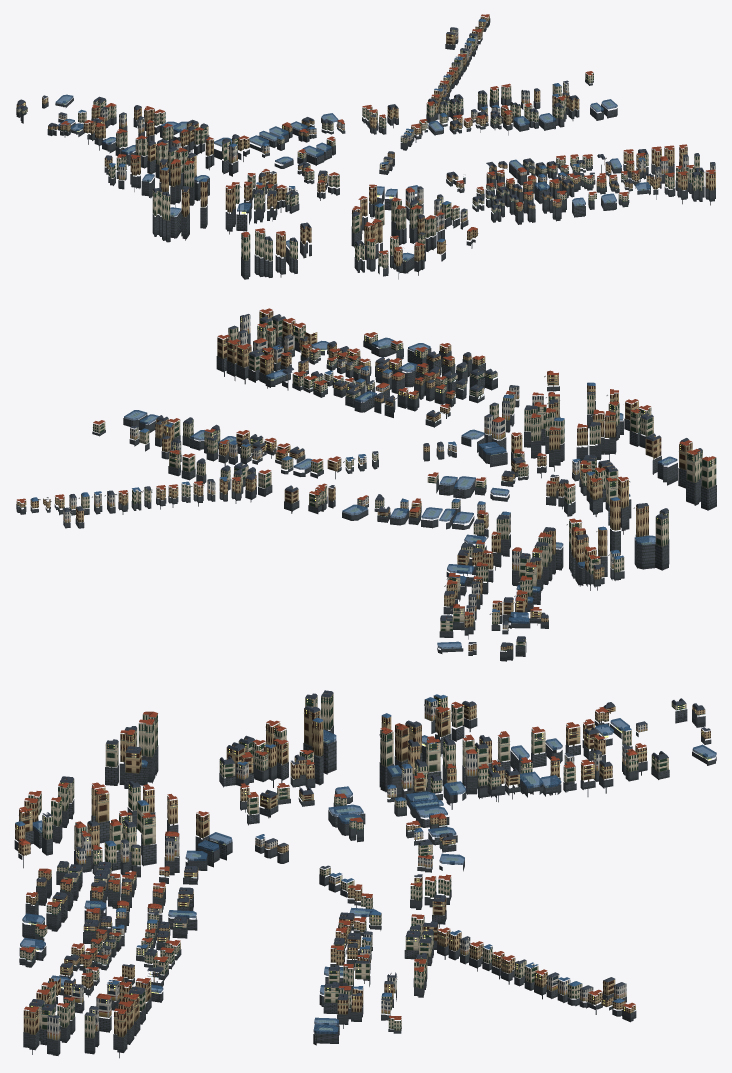
The model's file is osm_buildings_T_W01_N01_Q2.glb.
The picture shows the model from 3 angles, top to bottom: view 1: azimuth 30°, elevation 25°; view 2: azimuth 150°, elevation 25°; view 3: azimuth 270°, elevation 25°; orthographic projection. The views are drawn at different scales.
Parts seen in each view (by area): view 1: OSM_PBR_T_W01_N01_Q2_foundation, OSM_PBR_T_W01_N01_Q2_wall_cream_stucco, OSM_PBR_T_W01_N01_Q2_wall_french_ochre, OSM_PBR_T_W01_N01_Q2_greenhouse_blend, OSM_PBR_T_W01_N01_Q2_roof_terracotta, OSM_PBR_T_W01_N01_Q2_roof_mansard_slate, OSM_PBR_T_W01_N01_Q2_wall_pastel_sand, OSM_PBR_T_W01_N01_Q2_roof_mansard_deck, OSM_PBR_T_W01_N01_Q2_wall_warm_white, OSM_PBR_T_W01_N01_Q2_roof_alpine_blue, OSM_PBR_T_W01_N01_Q2_roof_mint_metal, OSM_PBR_T_W01_N01_Q2_trim_cornice (+1 smaller); view 2: OSM_PBR_T_W01_N01_Q2_foundation, OSM_PBR_T_W01_N01_Q2_wall_french_ochre, OSM_PBR_T_W01_N01_Q2_wall_cream_stucco, OSM_PBR_T_W01_N01_Q2_roof_terracotta, OSM_PBR_T_W01_N01_Q2_greenhouse_blend, OSM_PBR_T_W01_N01_Q2_roof_mansard_slate, OSM_PBR_T_W01_N01_Q2_wall_pastel_sand, OSM_PBR_T_W01_N01_Q2_roof_mansard_deck, OSM_PBR_T_W01_N01_Q2_wall_warm_white, OSM_PBR_T_W01_N01_Q2_roof_mint_metal, OSM_PBR_T_W01_N01_Q2_roof_alpine_blue, OSM_PBR_T_W01_N01_Q2_trim_cornice (+2 smaller); view 3: OSM_PBR_T_W01_N01_Q2_foundation, OSM_PBR_T_W01_N01_Q2_wall_cream_stucco, OSM_PBR_T_W01_N01_Q2_wall_french_ochre, OSM_PBR_T_W01_N01_Q2_roof_terracotta, OSM_PBR_T_W01_N01_Q2_greenhouse_blend, OSM_PBR_T_W01_N01_Q2_roof_mansard_slate, OSM_PBR_T_W01_N01_Q2_wall_pastel_sand, OSM_PBR_T_W01_N01_Q2_roof_mansard_deck, OSM_PBR_T_W01_N01_Q2_wall_warm_white, OSM_PBR_T_W01_N01_Q2_trim_cornice, OSM_PBR_T_W01_N01_Q2_roof_mint_metal, OSM_PBR_T_W01_N01_Q2_roof_alpine_blue (+2 smaller).
Part boxes in pixels (<box>): OSM_PBR_T_W01_N01_Q2_foundation: <box>16,18,715,279</box>; OSM_PBR_T_W01_N01_Q2_wall_cream_stucco: <box>16,40,704,268</box>; OSM_PBR_T_W01_N01_Q2_wall_french_ochre: <box>16,15,715,266</box>; OSM_PBR_T_W01_N01_Q2_greenhouse_blend: <box>55,94,650,260</box>; OSM_PBR_T_W01_N01_Q2_roof_terracotta: <box>60,14,715,254</box>; OSM_PBR_T_W01_N01_Q2_roof_mansard_slate: <box>17,27,715,245</box>; OSM_PBR_T_W01_N01_Q2_wall_pastel_sand: <box>58,29,668,231</box>; OSM_PBR_T_W01_N01_Q2_roof_mansard_deck: <box>18,90,702,260</box>; OSM_PBR_T_W01_N01_Q2_wall_warm_white: <box>171,82,715,207</box>; OSM_PBR_T_W01_N01_Q2_roof_alpine_blue: <box>78,18,645,242</box>; OSM_PBR_T_W01_N01_Q2_roof_mint_metal: <box>22,21,714,260</box>; OSM_PBR_T_W01_N01_Q2_trim_cornice: <box>47,18,713,258</box>; OSM_PBR_T_W01_N01_Q2_foundation: <box>16,333,716,661</box>; OSM_PBR_T_W01_N01_Q2_wall_french_ochre: <box>16,311,692,651</box>; OSM_PBR_T_W01_N01_Q2_wall_cream_stucco: <box>81,316,716,645</box>; OSM_PBR_T_W01_N01_Q2_roof_terracotta: <box>17,308,715,618</box>; OSM_PBR_T_W01_N01_Q2_greenhouse_blend: <box>124,337,677,648</box>; OSM_PBR_T_W01_N01_Q2_roof_mansard_slate: <box>63,314,702,646</box>; OSM_PBR_T_W01_N01_Q2_wall_pastel_sand: <box>63,341,620,629</box>; OSM_PBR_T_W01_N01_Q2_roof_mansard_deck: <box>132,314,700,648</box>; OSM_PBR_T_W01_N01_Q2_wall_warm_white: <box>130,315,521,570</box>; OSM_PBR_T_W01_N01_Q2_roof_mint_metal: <box>17,317,715,650</box>; OSM_PBR_T_W01_N01_Q2_roof_alpine_blue: <box>31,345,623,611</box>; OSM_PBR_T_W01_N01_Q2_trim_cornice: <box>18,314,700,648</box>; OSM_PBR_T_W01_N01_Q2_foundation: <box>14,709,716,1058</box>; OSM_PBR_T_W01_N01_Q2_wall_cream_stucco: <box>20,693,686,1038</box>; OSM_PBR_T_W01_N01_Q2_wall_french_ochre: <box>15,704,710,1037</box>; OSM_PBR_T_W01_N01_Q2_roof_terracotta: <box>19,701,660,1019</box>; OSM_PBR_T_W01_N01_Q2_greenhouse_blend: <box>20,718,716,1033</box>; OSM_PBR_T_W01_N01_Q2_roof_mansard_slate: <box>29,691,710,1018</box>; OSM_PBR_T_W01_N01_Q2_wall_pastel_sand: <box>76,700,647,1017</box>; OSM_PBR_T_W01_N01_Q2_roof_mansard_deck: <box>20,690,713,1033</box>; OSM_PBR_T_W01_N01_Q2_wall_warm_white: <box>47,752,477,1040</box>; OSM_PBR_T_W01_N01_Q2_trim_cornice: <box>17,693,710,1019</box>; OSM_PBR_T_W01_N01_Q2_roof_mint_metal: <box>19,701,704,1027</box>; OSM_PBR_T_W01_N01_Q2_roof_alpine_blue: <box>15,694,631,1002</box>.
Bounding box in the file's own units: 1003 × 117 × 939.
Materials: 18 (16 with a texture image).
